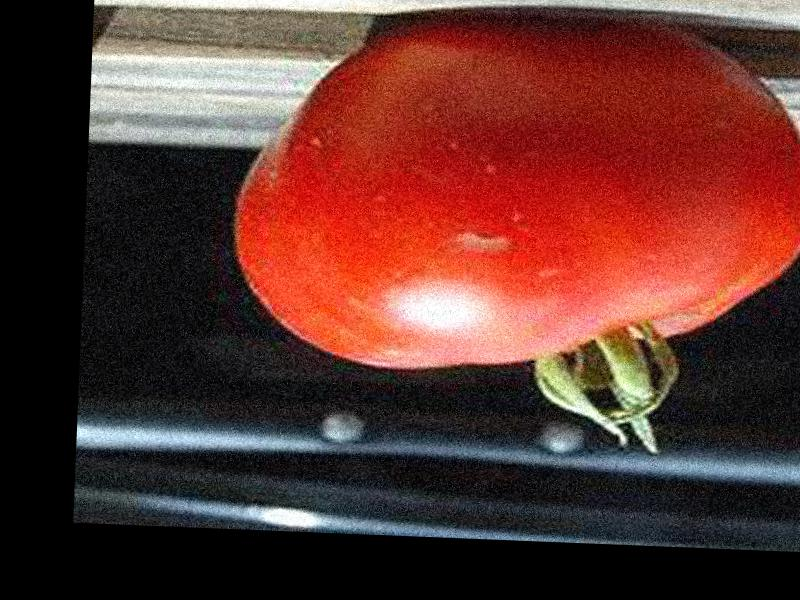Tomato: (227, 10, 800, 455)
